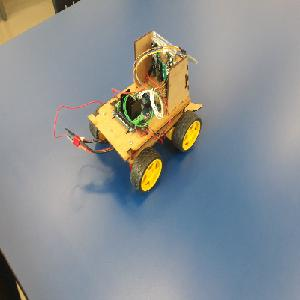Robot: (86, 30, 202, 194)
